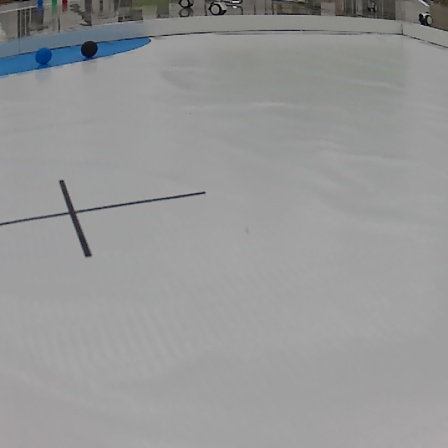black: (81, 41, 104, 56)
blue: (36, 46, 52, 64)
blue_base: (1, 37, 151, 76)
